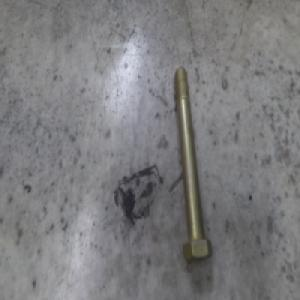Bolt: (170, 66, 209, 262)
